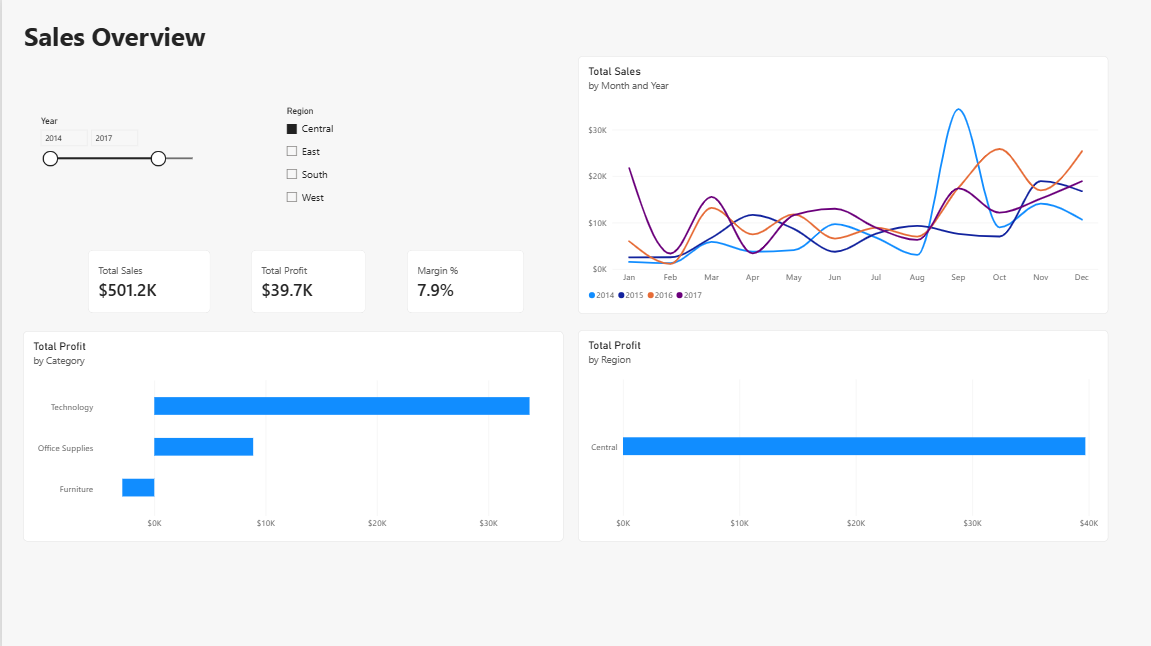

The dashboard page shown, as its layout file describes it:
{"tool":"powerbi","page":{"name":"Page 1","canvas":[1920,1080],"ordinal":0},"visuals":[{"type":"cardVisual","fields":{"Data":["superstore_flagged.Total Sales"]},"box":[142.9,417.1,204.3,105.7],"z":0},{"type":"cardVisual","fields":{"Data":["superstore_flagged.Total Profit"]},"box":[414.3,417.1,191.4,105.7],"z":1000},{"type":"cardVisual","fields":{"Data":["superstore_flagged.Margin %"]},"box":[675.7,417.1,195.7,105.7],"z":2000},{"type":"lineChart","fields":{"Category":["DateTable.Month"],"Series":["DateTable.Year"],"Y":["superstore_flagged.Total Sales"]},"box":[960,92.9,884.3,430],"z":3000},{"type":"clusteredBarChart","fields":{"Category":["superstore_flagged.Category"],"Y":["superstore_flagged.Total Profit"]},"box":[35.7,551.4,901.4,351.4],"z":4000},{"type":"clusteredBarChart","fields":{"Category":["superstore_flagged.Region"],"Y":["superstore_flagged.Total Profit"]},"box":[960,550,884.3,352.9],"z":5000},{"type":"slicer","fields":{"Values":["DateTable.Year"]},"box":[57.1,192.9,279.6,147.7],"z":6000},{"type":"slicer","fields":{"Values":["superstore_flagged.Region"]},"box":[467.1,177.1,160.6,179.2],"z":7000},{"type":"textbox","box":[36.2,30,393.8,88.8],"z":7001}]}

Visuals, with their boxes in screenshot pixels (x1, y1, x2, y2), scaled from the page's 1920x1080 canvas onto the 1151x646 screenshot:
cardVisual - superstore_flagged.Total Sales: [left=86, top=249, right=208, bottom=313]
cardVisual - superstore_flagged.Total Profit: [left=248, top=249, right=363, bottom=313]
cardVisual - superstore_flagged.Margin %: [left=405, top=249, right=522, bottom=313]
lineChart - DateTable.Month x DateTable.Year: [left=576, top=56, right=1106, bottom=313]
clusteredBarChart - superstore_flagged.Category x superstore_flagged.Total Profit: [left=21, top=330, right=562, bottom=540]
clusteredBarChart - superstore_flagged.Region x superstore_flagged.Total Profit: [left=576, top=329, right=1106, bottom=540]
slicer - DateTable.Year: [left=34, top=115, right=202, bottom=204]
slicer - superstore_flagged.Region: [left=280, top=106, right=376, bottom=213]
textbox: [left=22, top=18, right=258, bottom=71]
